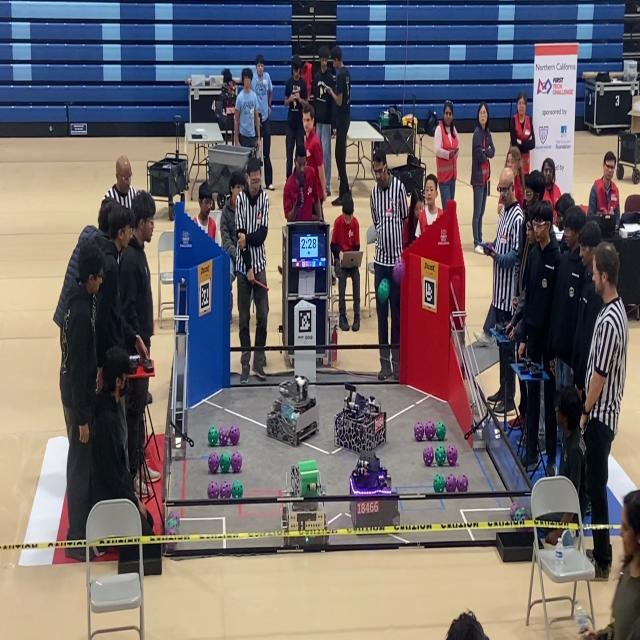artifact_green: (377, 278, 390, 303), (220, 451, 231, 473), (208, 452, 219, 474), (435, 446, 446, 465), (434, 474, 445, 493), (510, 502, 520, 521), (208, 427, 218, 446), (220, 482, 231, 499), (232, 481, 243, 498), (436, 421, 445, 441), (219, 427, 228, 446), (514, 508, 525, 523), (165, 518, 178, 530), (168, 511, 179, 523), (165, 527, 177, 536), (166, 543, 175, 550)
artifact_purple: (393, 259, 404, 284), (231, 451, 242, 472), (445, 474, 457, 493), (208, 453, 219, 473), (229, 425, 240, 445), (510, 502, 521, 521), (423, 447, 434, 466), (447, 446, 457, 466), (414, 422, 424, 441), (425, 421, 435, 440), (457, 475, 468, 492), (220, 482, 231, 498), (208, 482, 219, 498), (219, 427, 228, 446), (514, 508, 525, 523), (168, 511, 179, 523), (165, 527, 177, 535), (166, 527, 177, 535)
